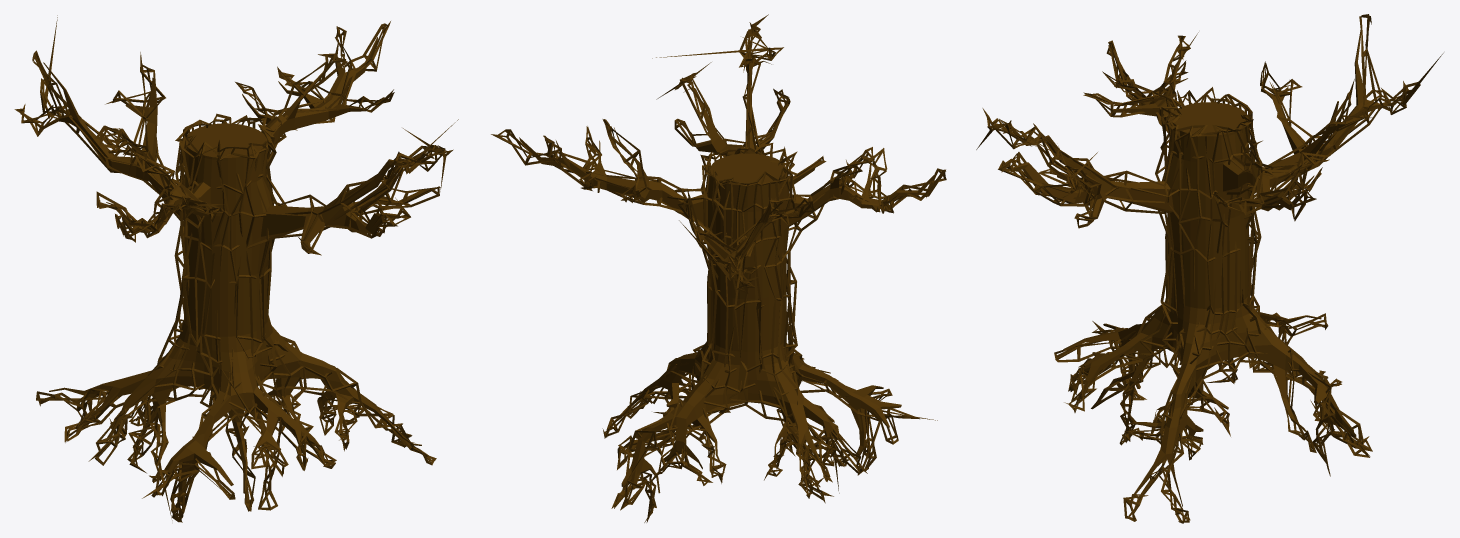
Rendered from tree with vines no leaves.fbx.
The picture shows the model from 3 angles, left to right: view 1: azimuth 30°, elevation 25°; view 2: azimuth 150°, elevation 25°; view 3: azimuth 270°, elevation 25°; orthographic projection. The views are drawn at different scales.
Parts seen in each view (by area): view 1: Cylinder.032; view 2: Cylinder.032; view 3: Cylinder.032.
Part boxes in pixels (x1,y1,x2,y2): Cylinder.032: [14, 15, 458, 522]; Cylinder.032: [491, 14, 946, 522]; Cylinder.032: [976, 14, 1443, 523].
Bounding box in the file's own units: 2303 × 2340 × 2532.
